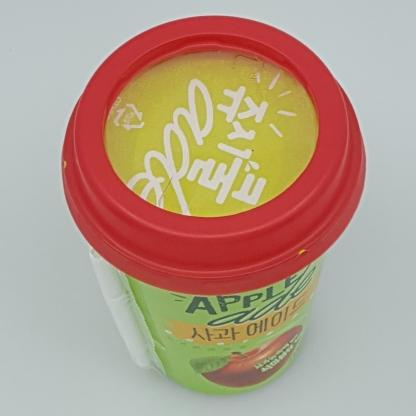--------: (61, 16, 365, 396)
